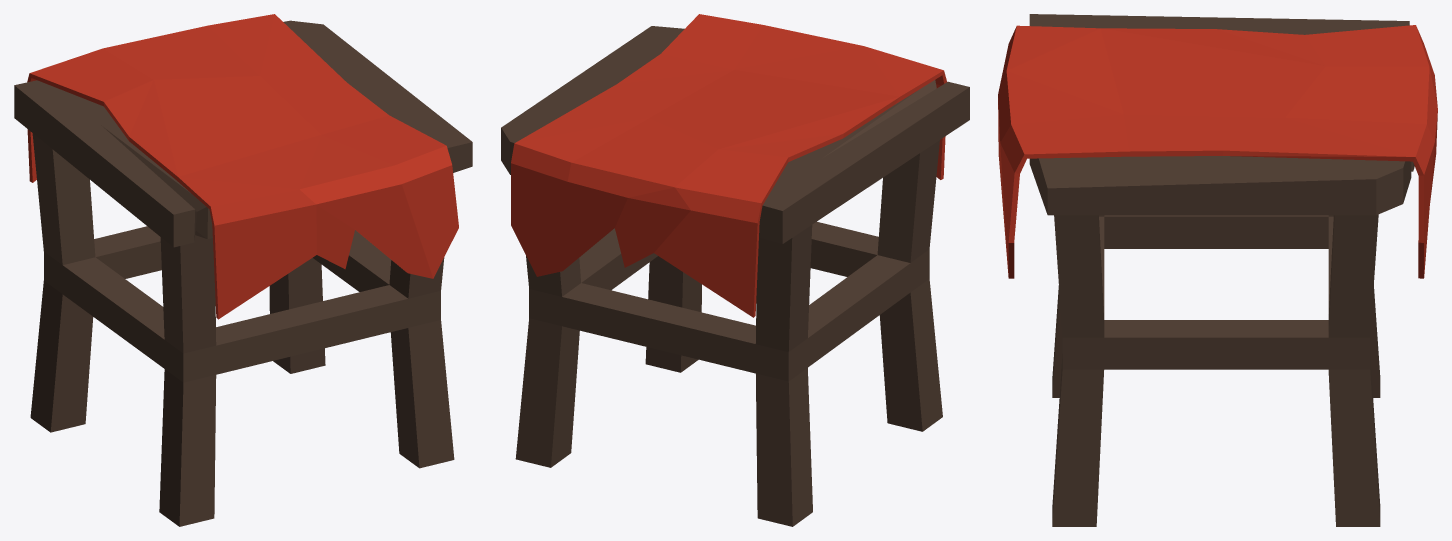
File: stool_cloth.fbx
The picture shows the model from 3 angles, left to right: view 1: azimuth 30°, elevation 25°; view 2: azimuth 150°, elevation 25°; view 3: azimuth 270°, elevation 25°; orthographic projection. The views are drawn at different scales.
Parts seen in each view (by area): view 1: stool_cloth; view 2: stool_cloth; view 3: stool_cloth.
Part boxes in pixels (<box>): stool_cloth: <box>14,14,472,526</box>; stool_cloth: <box>501,14,969,526</box>; stool_cloth: <box>998,14,1437,526</box>.
Bounding box in the file's own units: 69.14 × 71.4 × 77.82.
